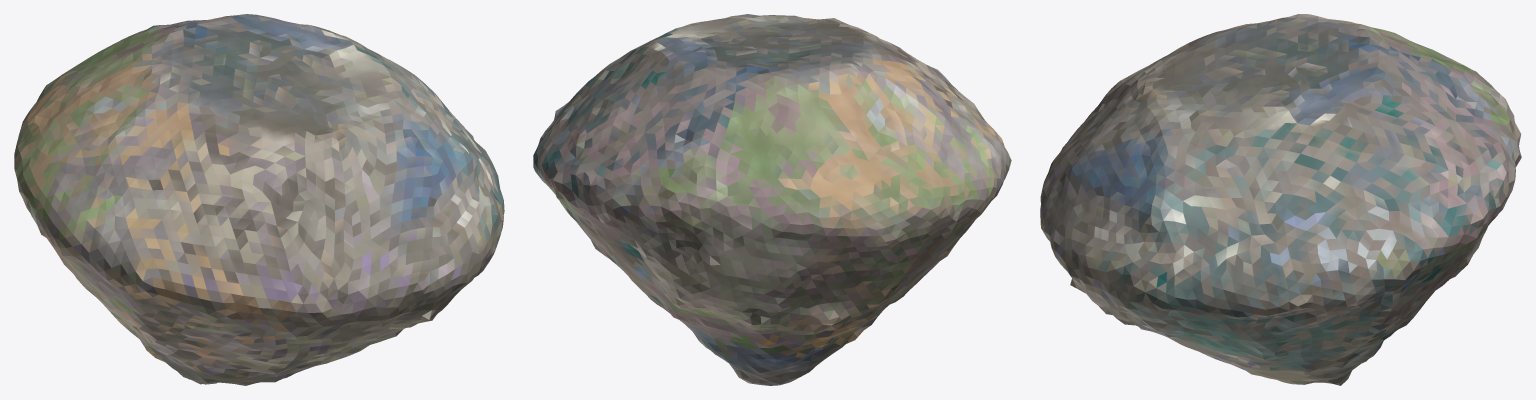
The model's file is 897_Glass_Jewel.obj.
3 renders of one model, left to right at view 1: azimuth 30°, elevation 25°; view 2: azimuth 150°, elevation 25°; view 3: azimuth 270°, elevation 25°, orthographic. The views are drawn at different scales.
Parts seen in each view (by area): view 1: Fused_Mesh; view 2: Fused_Mesh; view 3: Fused_Mesh.
Part boxes in pixels (bbox=[...]): Fused_Mesh: bbox=[14, 14, 504, 385]; Fused_Mesh: bbox=[533, 14, 1011, 385]; Fused_Mesh: bbox=[1040, 14, 1521, 385].
Size of the model in its own units: 10.94 by 8.33 by 10.72.
1 material, 1 textured.
